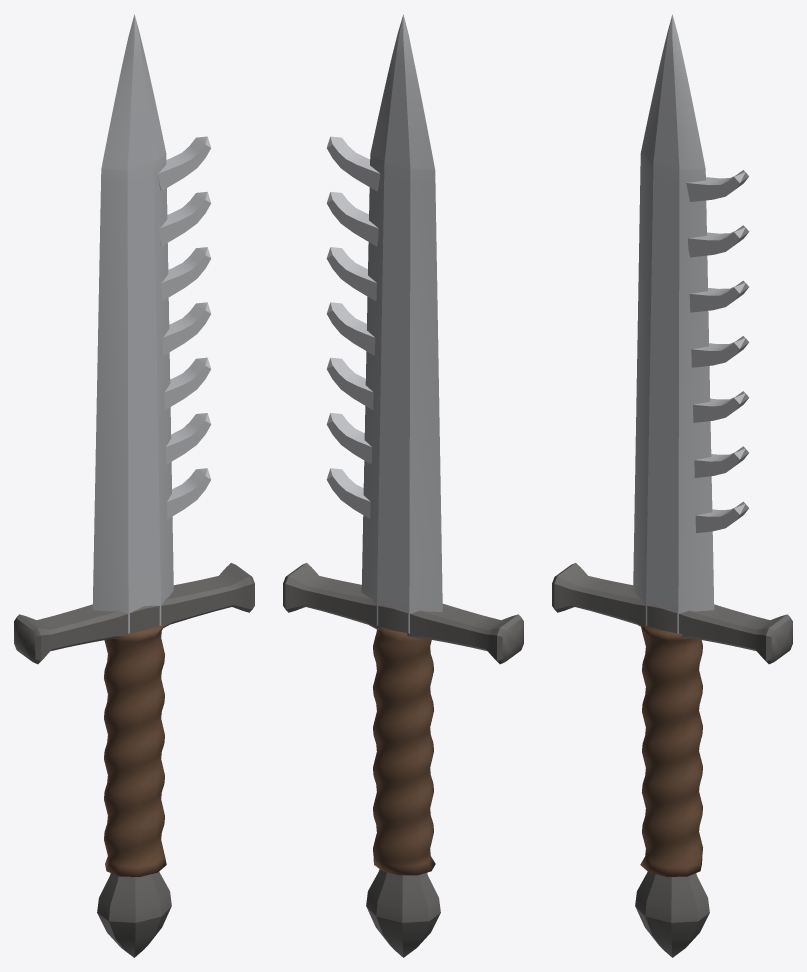
The model's file is swordbreaker-dagger.glb.
3 renders of one model, left to right at view 1: azimuth 30°, elevation 25°; view 2: azimuth 150°, elevation 25°; view 3: azimuth 330°, elevation 25°, orthographic.
Parts seen in each view (by area): view 1: swordbreaker-dagger; view 2: swordbreaker-dagger; view 3: swordbreaker-dagger.
Boxes of the visible parts, x1,y1,x2,y2 form: swordbreaker-dagger: (14, 14, 254, 957); swordbreaker-dagger: (283, 14, 523, 957); swordbreaker-dagger: (552, 14, 792, 957).
Bounding box in the file's own units: 0.28 × 1.11 × 0.0605.
